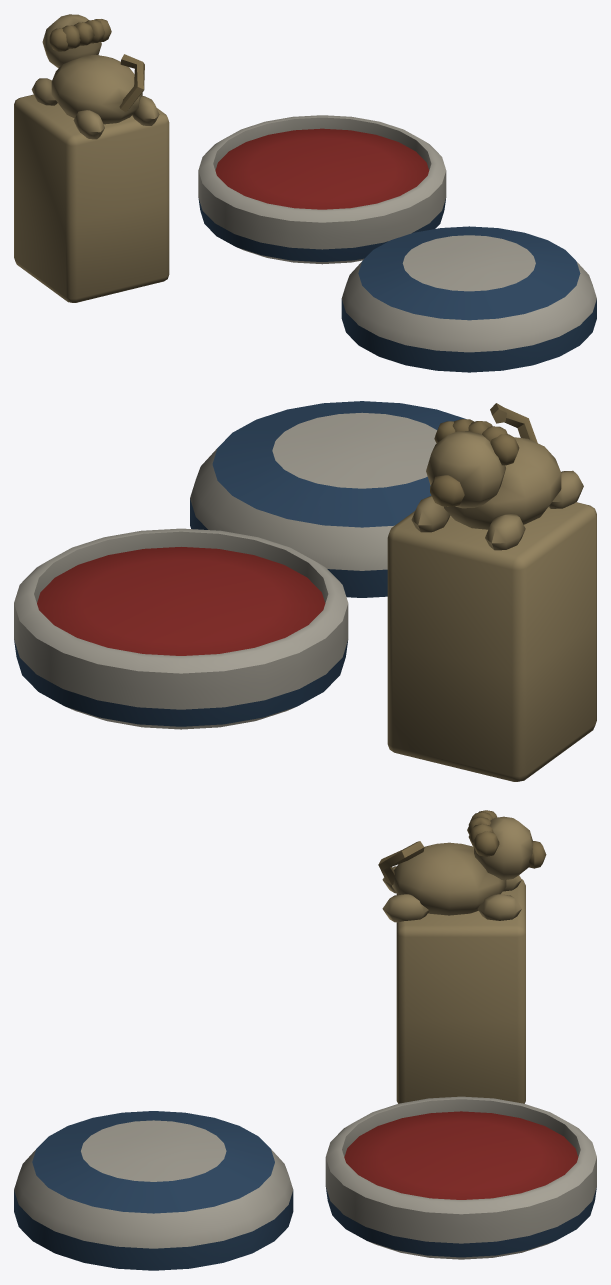
File: seal.glb
The picture shows the model from 3 angles, top to bottom: view 1: azimuth 30°, elevation 25°; view 2: azimuth 150°, elevation 25°; view 3: azimuth 270°, elevation 25°; orthographic projection. The views are drawn at different scales.
Visible parts, largest first — view 1: base; view 2: base; view 3: base.
Part boxes in pixels (left/top/right/bottom): base: left=14, top=14, right=596, bottom=372; base: left=14, top=401, right=596, bottom=781; base: left=14, top=810, right=596, bottom=1270.
Size of the model in its own units: 0.1245 by 0.0729 by 0.144.
